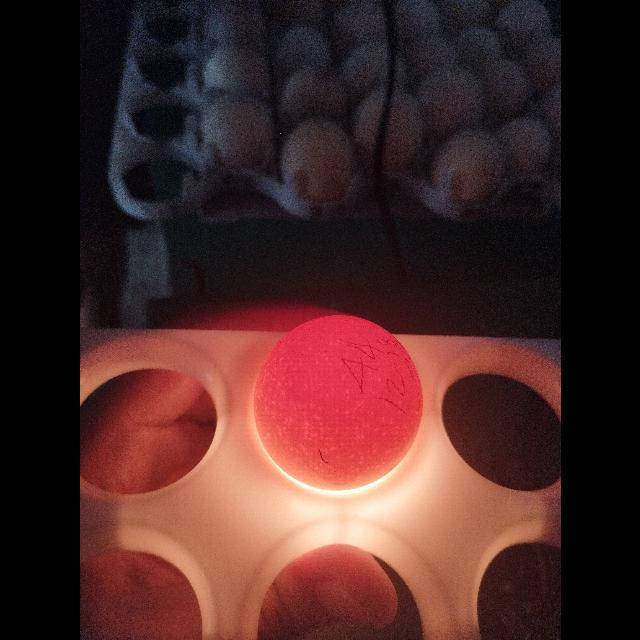Infertile: (250, 311, 426, 495)
